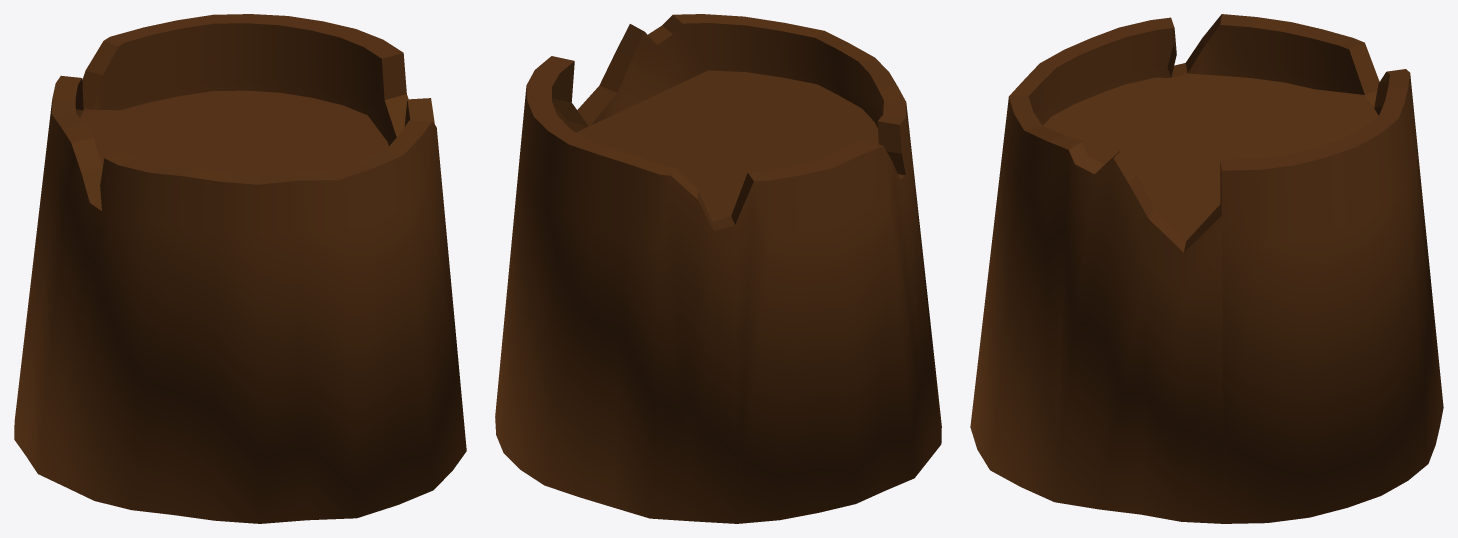
The model's file is kelmas.glb.
3 renders of one model, left to right at view 1: azimuth 30°, elevation 25°; view 2: azimuth 150°, elevation 25°; view 3: azimuth 270°, elevation 25°, orthographic. The views are drawn at different scales.
Visible parts, largest first — view 1: Cone; view 2: Cone; view 3: Cone.
Boxes of the visible parts, x1=… form: Cone: x1=14, y1=14, x2=466, y2=523; Cone: x1=495, y1=14, x2=941, y2=523; Cone: x1=970, y1=14, x2=1443, y2=523.
Size of the model in its own units: 0.651 by 0.5321 by 0.6681.
